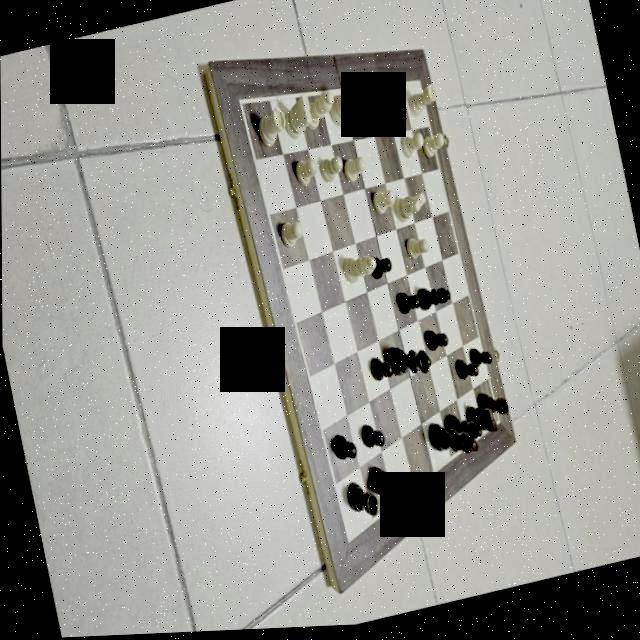chess-table-corners: (236, 97, 247, 117), (342, 536, 354, 550), (495, 421, 501, 431), (416, 82, 422, 90)
